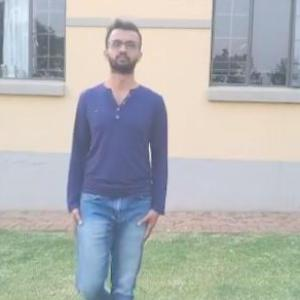follow: (69, 27, 169, 269)
